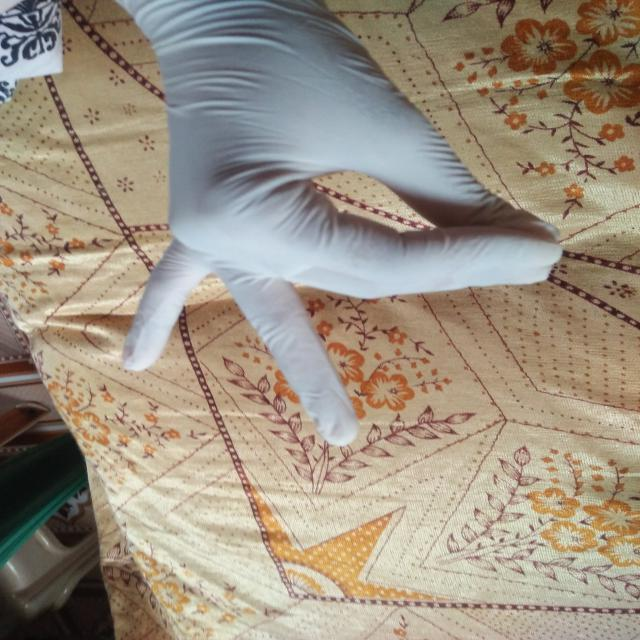gloved_hand: (113, 0, 568, 447)
